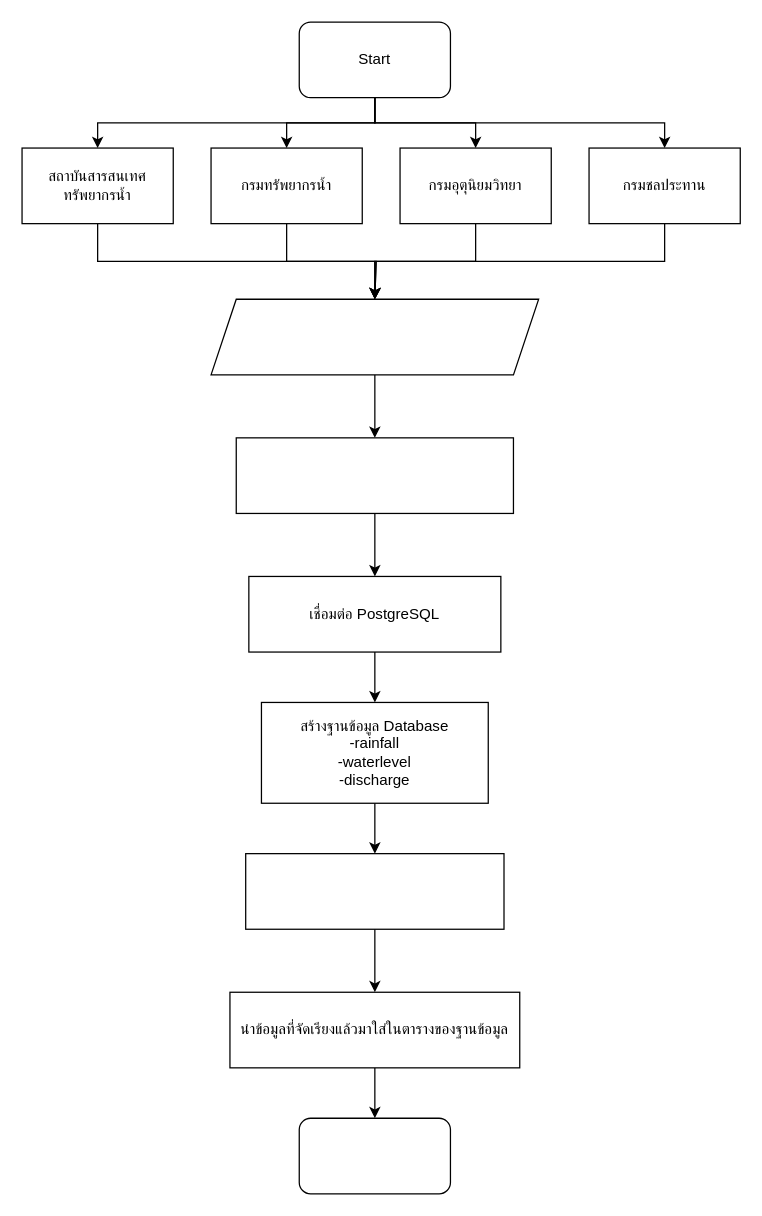
The diagram is 762 pixels wide and 1216 high, and some of its shapes have lost their labels. The centre of each missing label's shape, as x and y in pixels:
"End" goes at (x=374, y=1155).
"จัดเรียงข้อมูลที่ได้จากการดึงเป็น Time series" goes at (x=374, y=475).
"ดึงไฟล์ข้อมูลจาก API" goes at (x=374, y=336).
"สร้างตารางใน Database ไว้เก็บข้อมูล" goes at (x=374, y=890).
